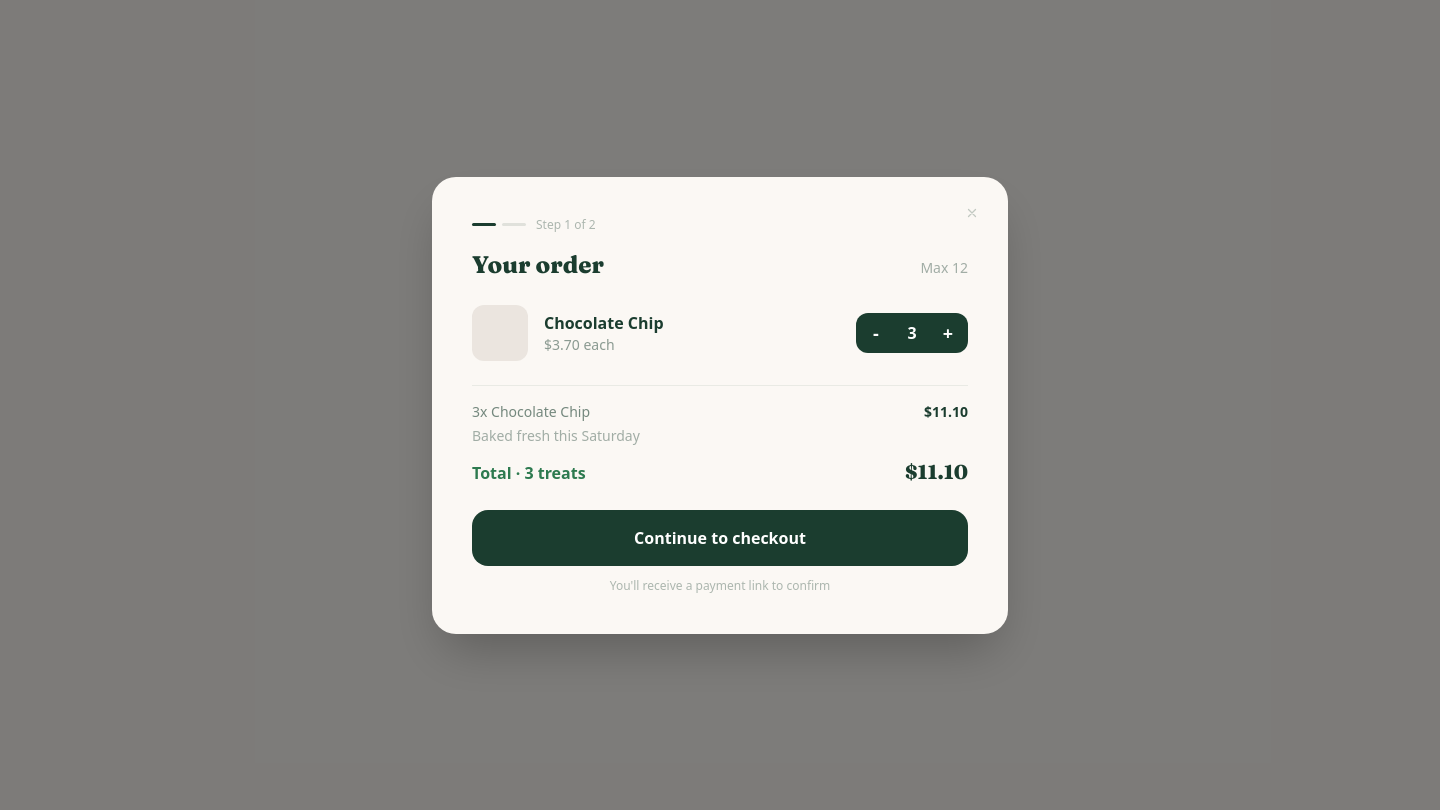
Scenario: OrderSheet › Step 1: Quantity › - button decreases quantity
The image size is (1440, 810).
Click the button "-": point(876, 332) [856, 312, 896, 352]
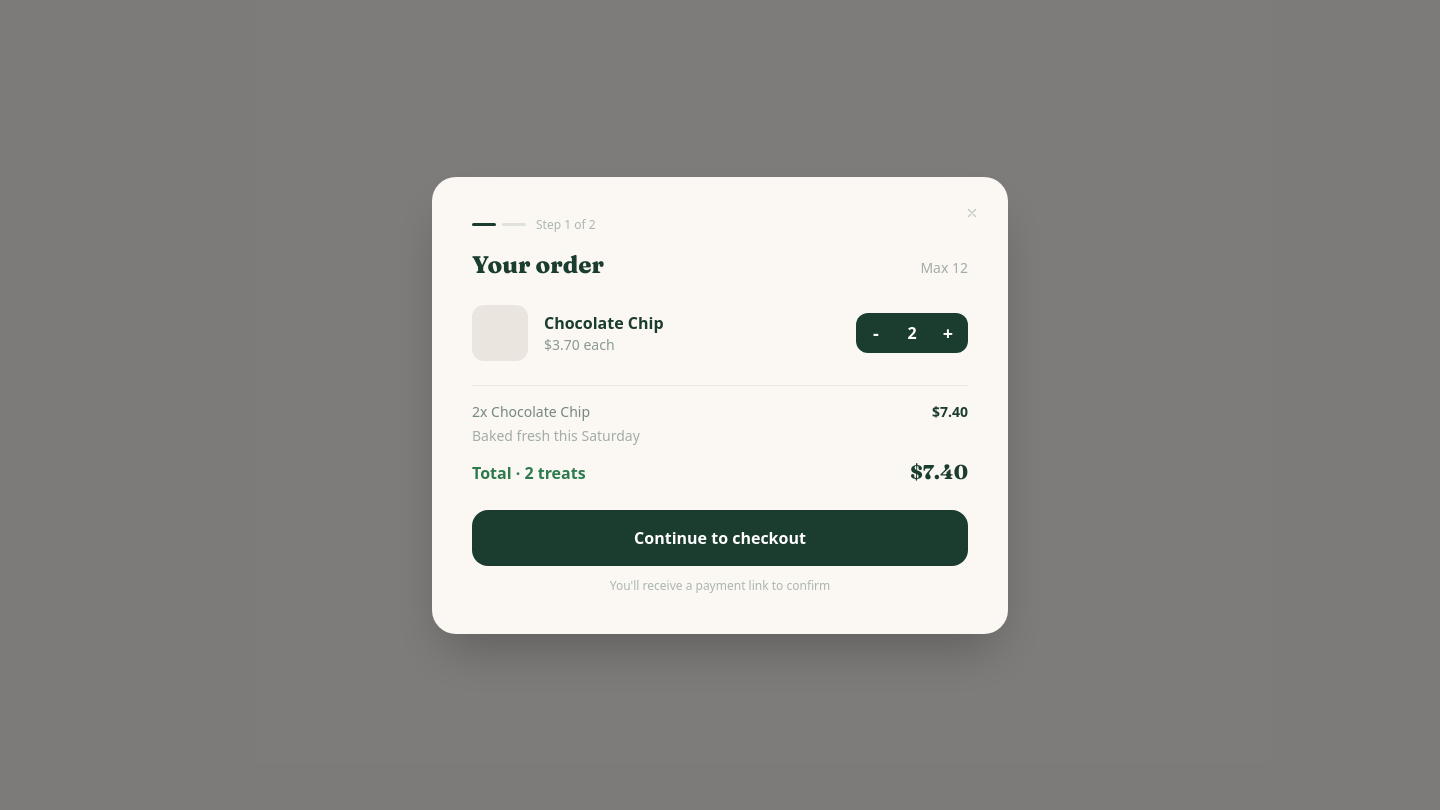
Check: the text "2" is shown, box [907, 322, 917, 344]
